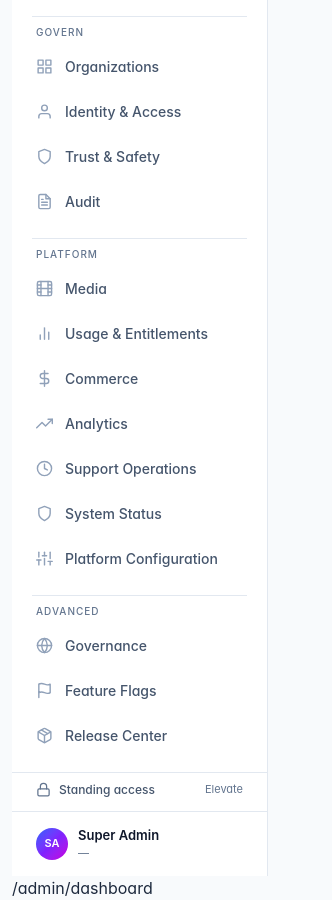
Test case: Admin rail — the account control › opens the account menu from the name
(page scrolled)
Click the text "Super Admin" at (119, 835), box left=78, top=826, right=159, bottom=845
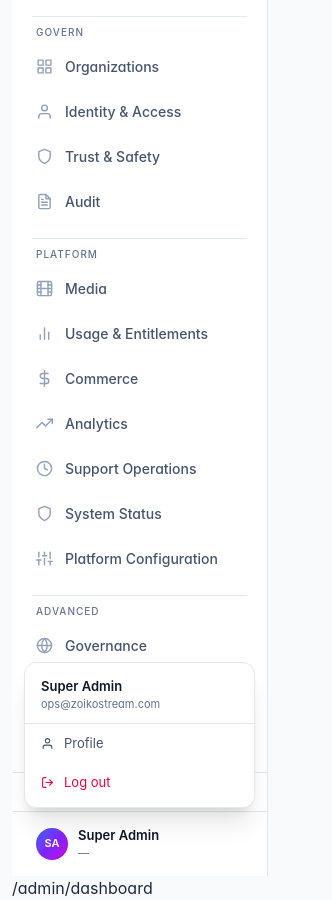
Expected: the menu item "Profile" is shown, left=41, top=734, right=104, bottom=750
Expected: the menu item "Log out" is shown, left=25, top=763, right=254, bottom=802
Expected: the text "ops@zoikostream.com" is shown, left=41, top=697, right=160, bottom=711
